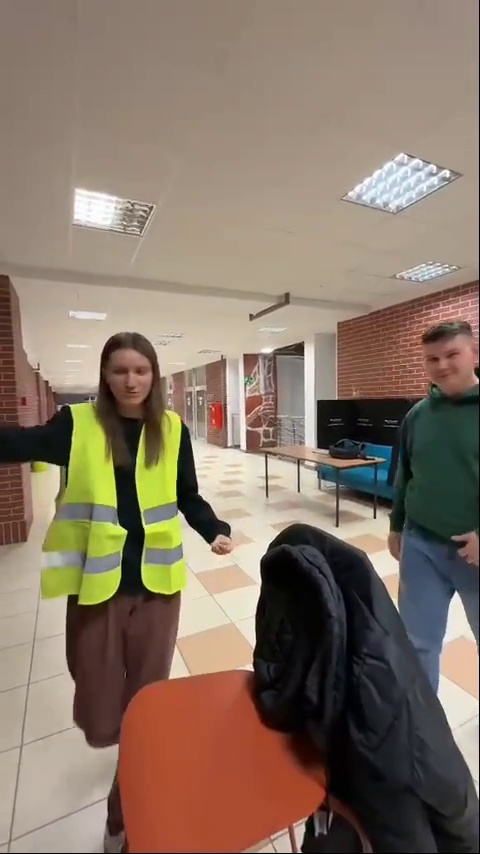no vest: (368, 316, 480, 716)
vest: (52, 326, 215, 718)
